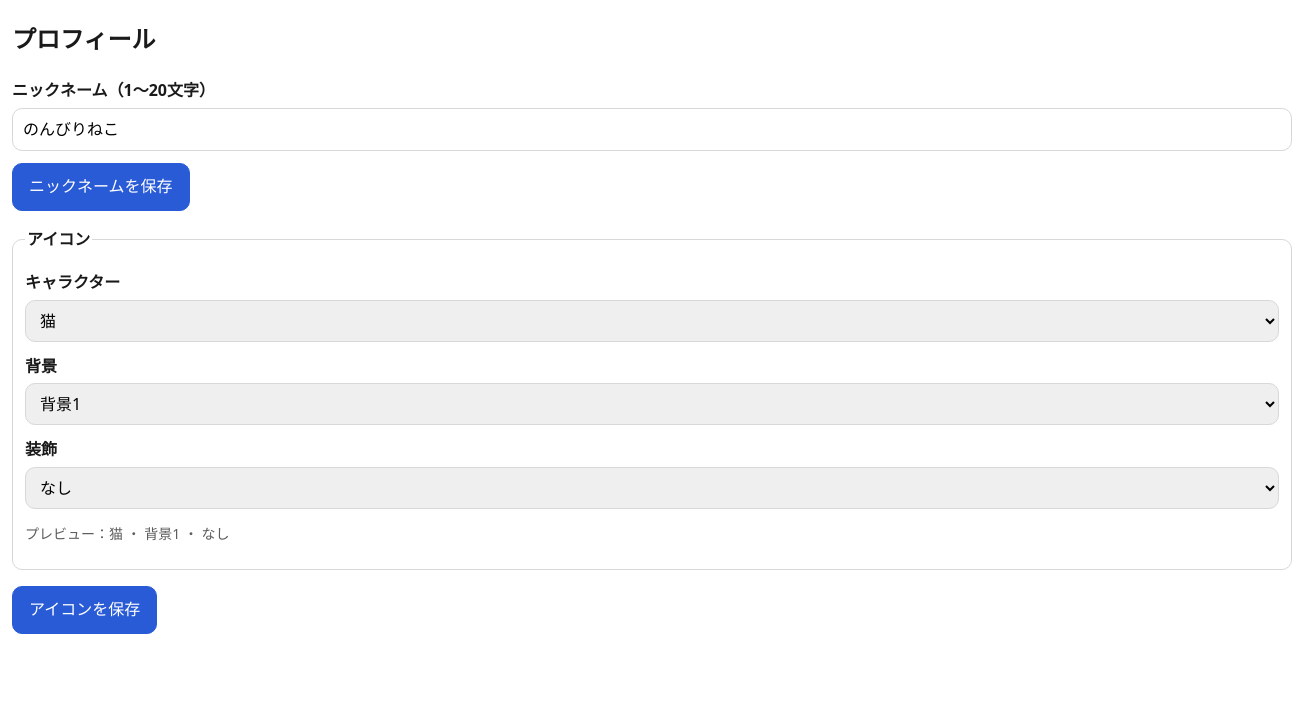
Test: ProfileEditor — nickname › shows the rename limit message on 429
The image size is (1304, 720).
Replace the text in the field labelled "ニックネーム（1〜20文字）" with "あたらしい" at (652, 130), box [12, 108, 1292, 151]
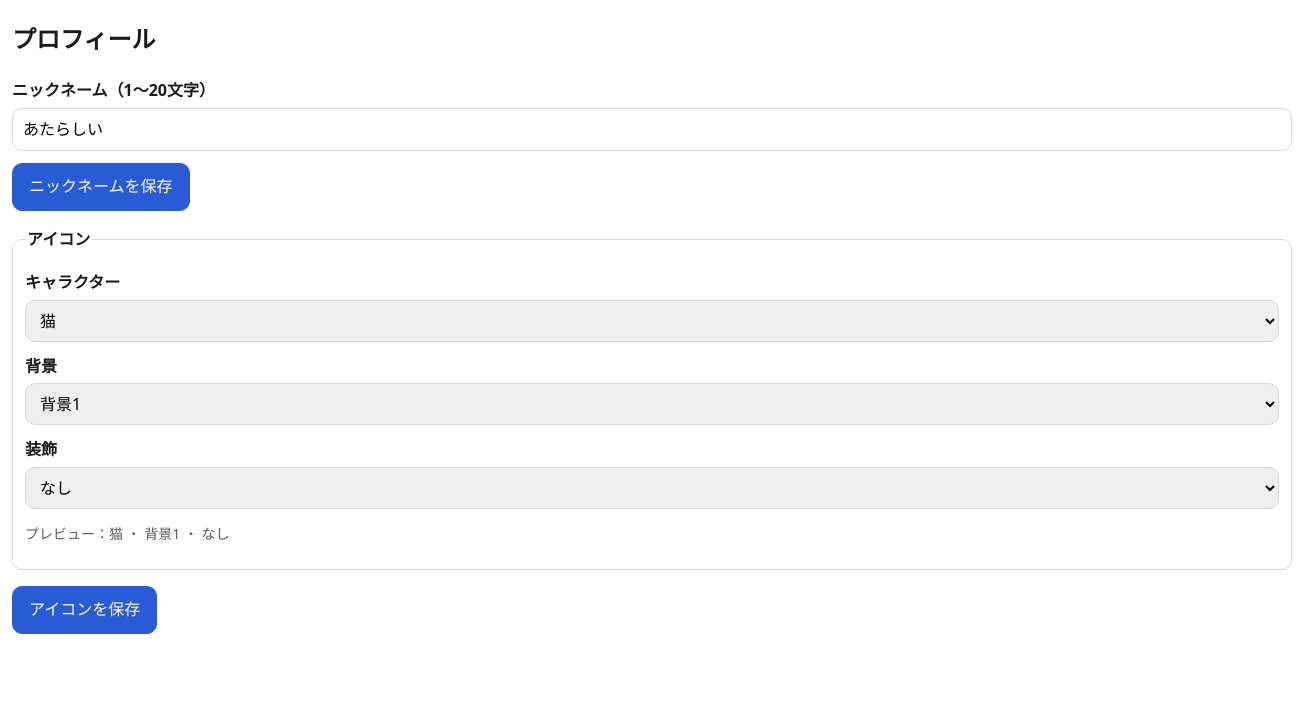
Click the button "ニックネームを保存" at (101, 187), box [12, 163, 190, 211]
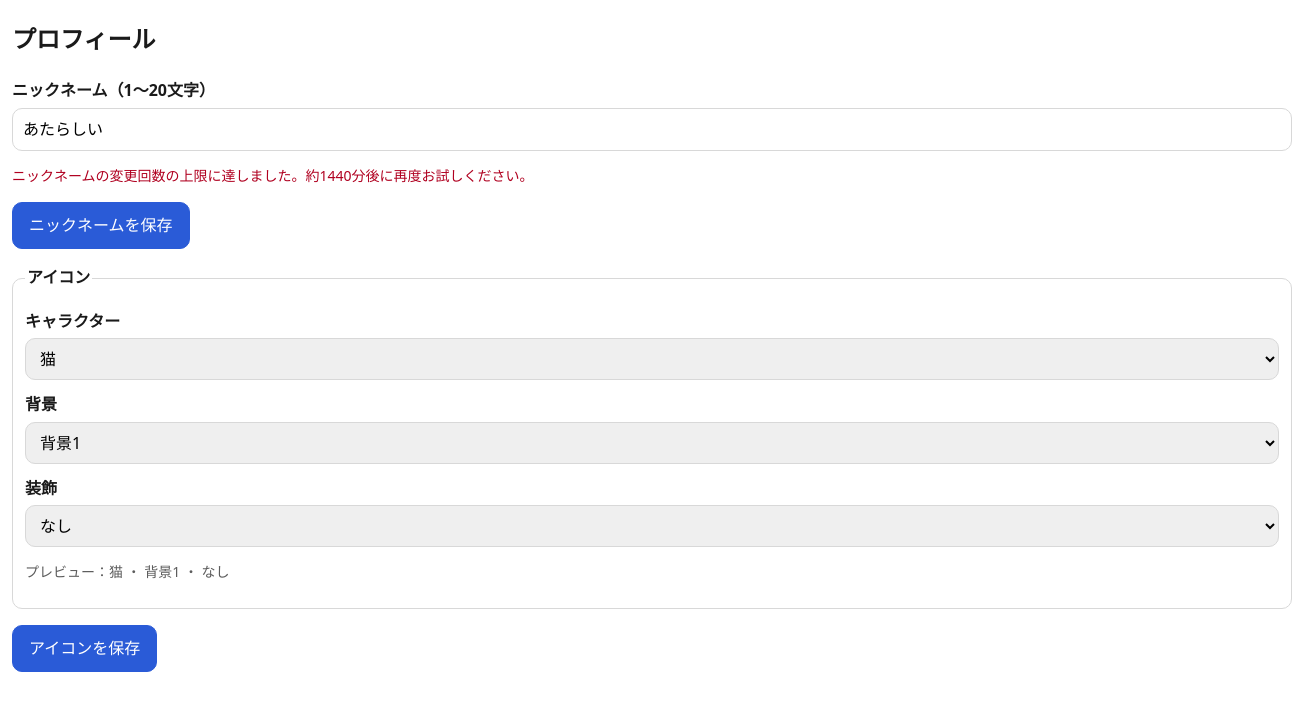
Now the message shows "変更回数の上限", box [12, 166, 534, 185]
